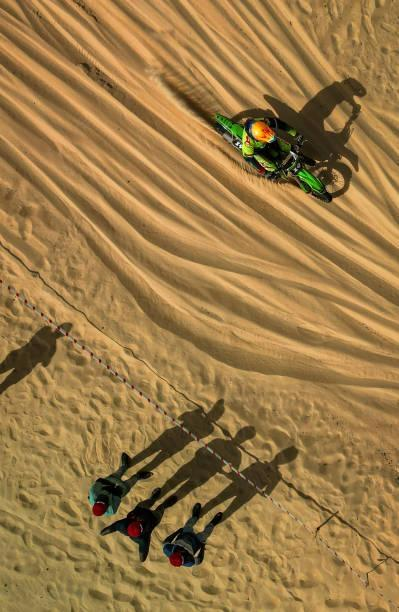Motorcycle: (213, 106, 335, 204)
